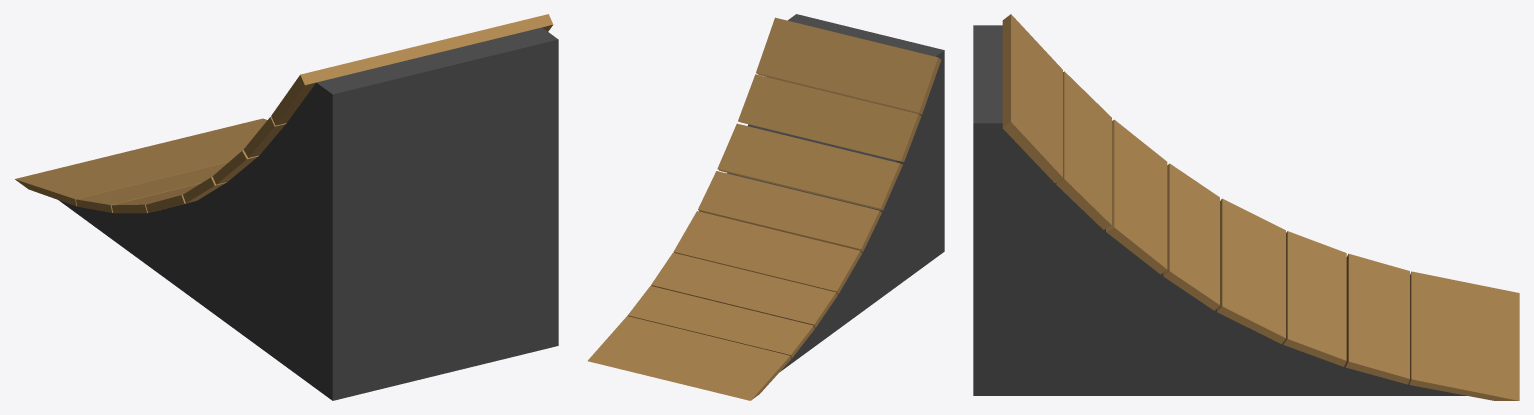
The model's file is terrain3.fbx.
3 renders of one model, left to right at view 1: azimuth 30°, elevation 25°; view 2: azimuth 150°, elevation 25°; view 3: azimuth 270°, elevation 25°, orthographic. The views are drawn at different scales.
Parts seen in each view (by area): view 1: terrain3; view 2: terrain3; view 3: terrain3.
Boxes of the visible parts, x1,y1,x2,y2 form: terrain3: (15, 14, 558, 400); terrain3: (587, 14, 944, 400); terrain3: (973, 14, 1519, 400).
Size of the model in its own units: 312 by 376 by 668.
